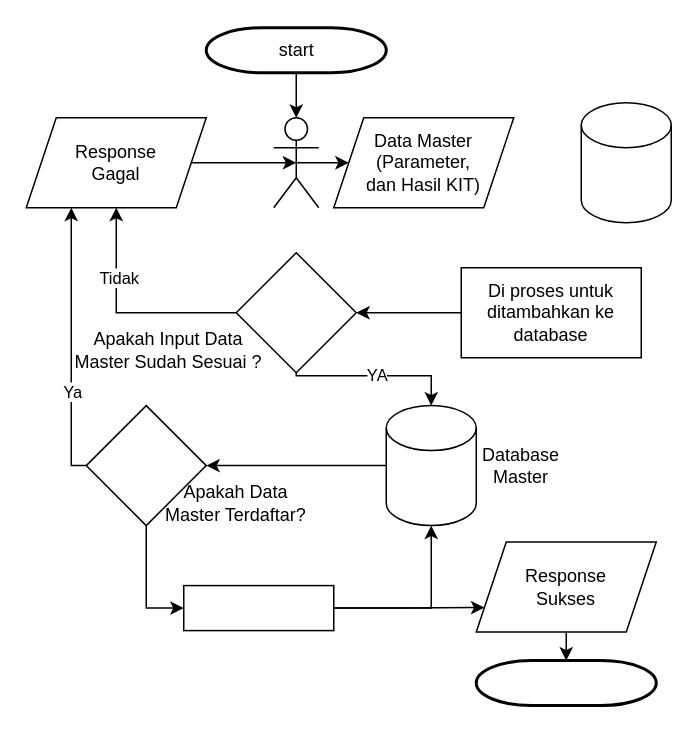
Some shapes in this 698 by 732 pixel diagram are drawn without their labels. Each missing label, with the centre of its shape:
"Finish" goes at (x=565, y=682).
"menyimpan Data Master" goes at (x=258, y=607).
"User Terverifikasi" goes at (x=295, y=162).
